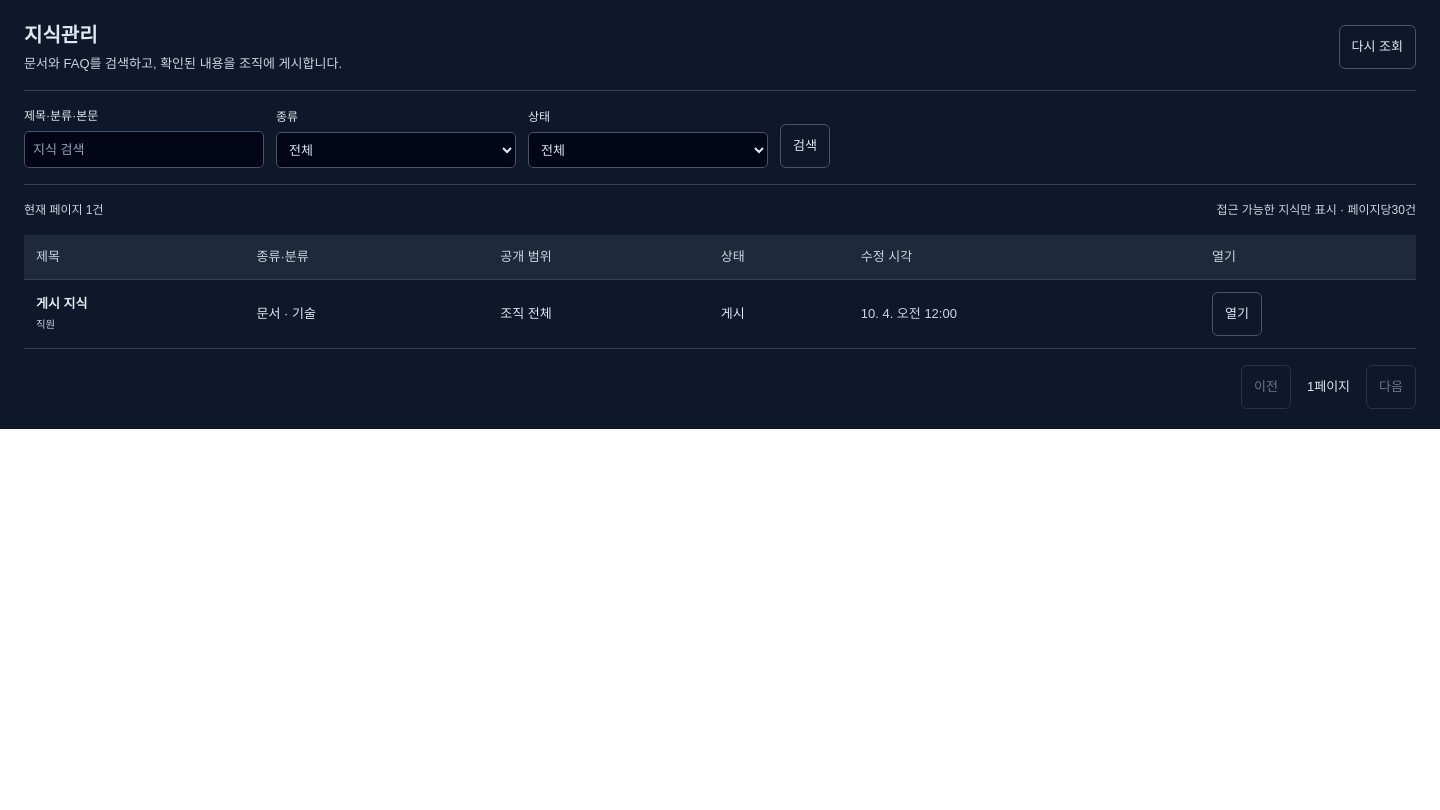
Test case: 읽기 전용 게시본에는 작성·게시·버전 이력 동작이 없다
The width and height of the screenshot is (1440, 810).
Check: the text "게시 지식" is shown, box [36,296,88,311]
Step 1. Click the button with aria-label "게시 지식 열기" → (1237, 314), box [1212,292,1262,336]
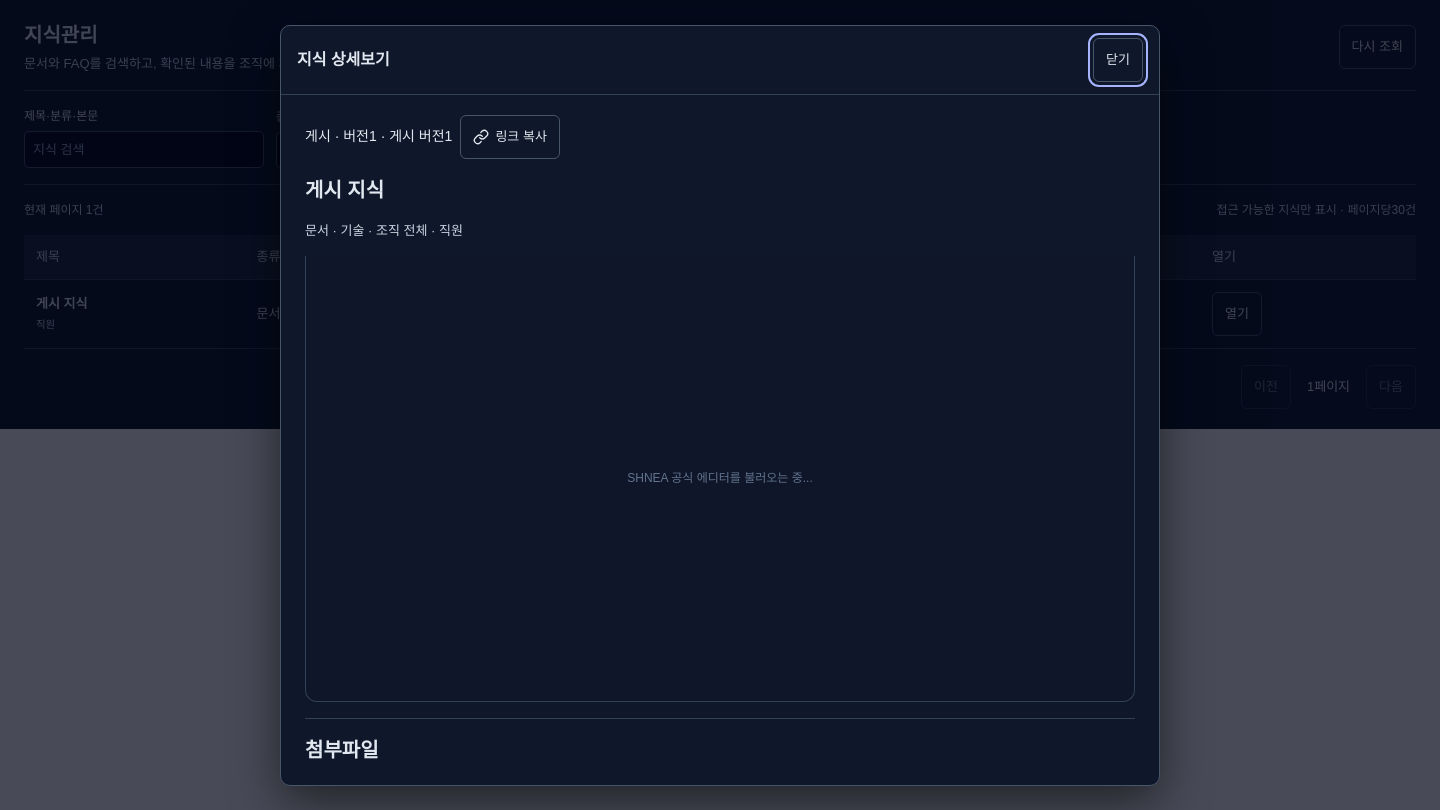
Check: the heading "게시 지식" is shown, box [305,178,384,200]
